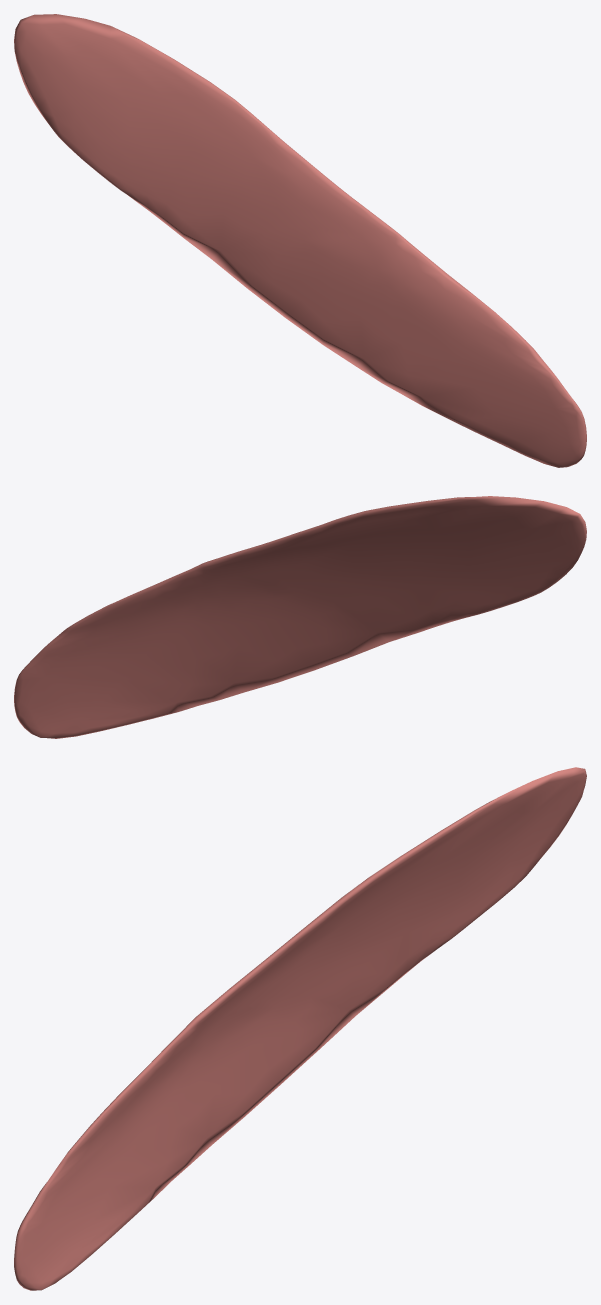
The picture shows the model from 3 angles, top to bottom: view 1: azimuth 30°, elevation 25°; view 2: azimuth 210°, elevation 25°; view 3: azimuth 270°, elevation 25°; orthographic projection. The views are drawn at different scales.
Visible parts, largest first — view 1: ZA_15263829a2e3a10c; view 2: ZA_15263829a2e3a10c; view 3: ZA_15263829a2e3a10c.
Boxes of the visible parts, <box> form: ZA_15263829a2e3a10c: <box>14,14,586,467</box>; ZA_15263829a2e3a10c: <box>14,496,586,738</box>; ZA_15263829a2e3a10c: <box>14,767,586,1290</box>.
Size of the model in its own units: 0.0277 by 0.0291 by 0.0401.
